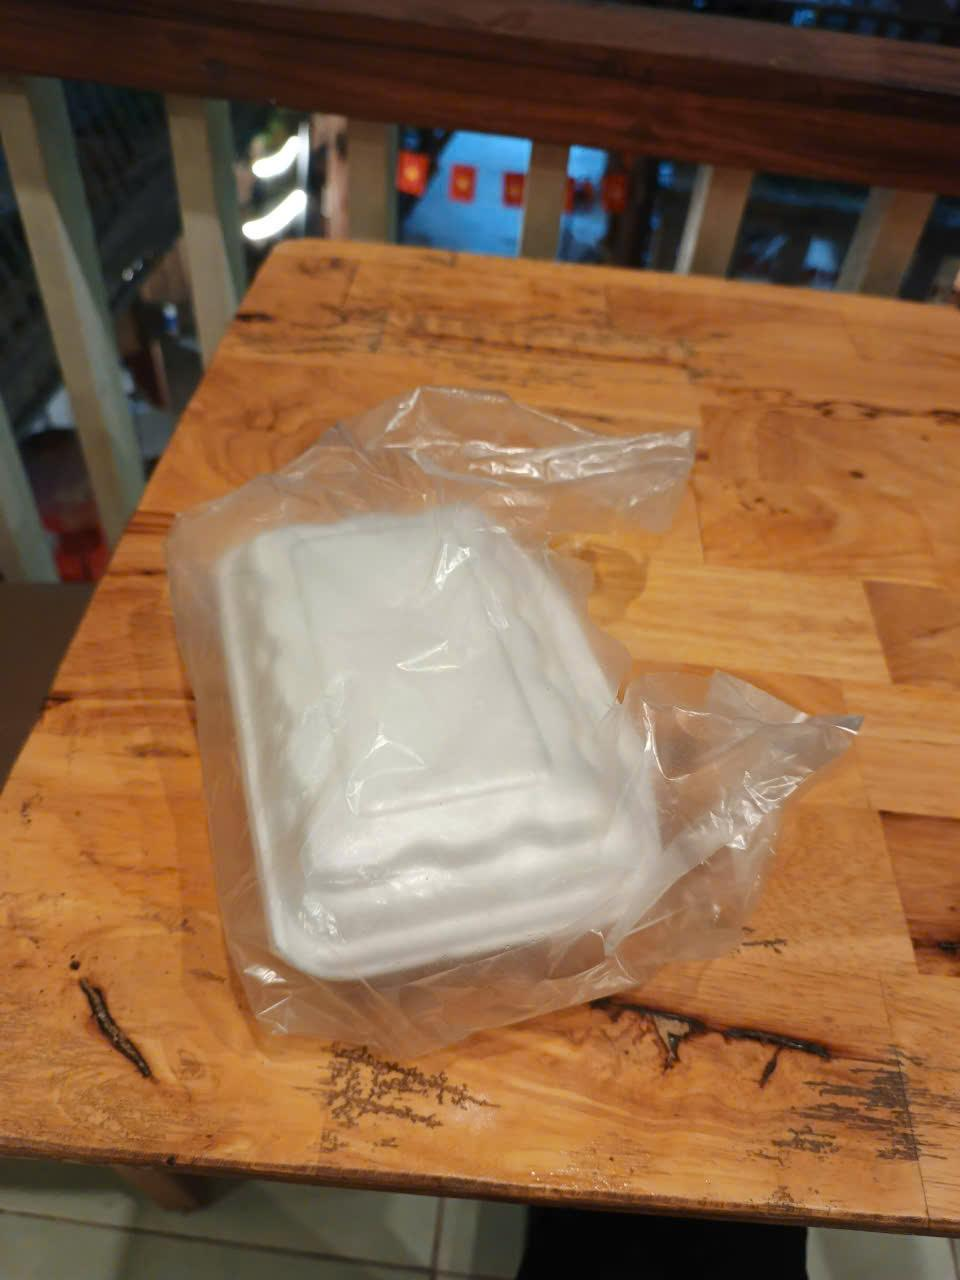Con lai: (162, 381, 864, 1049)
